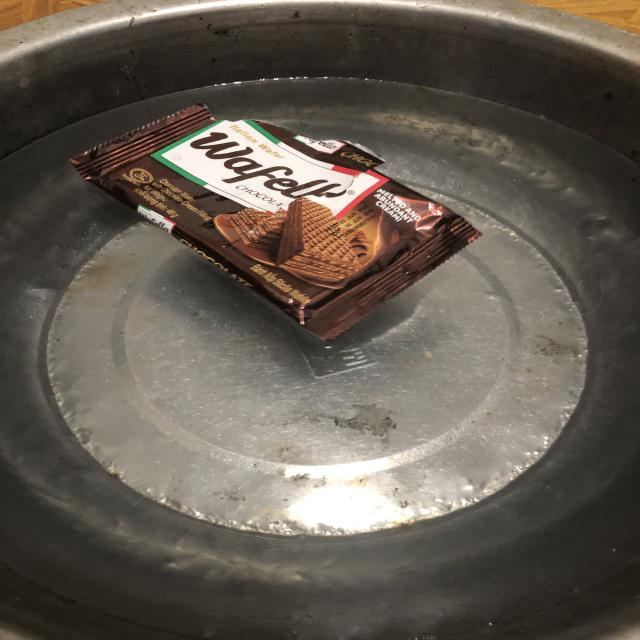Plastic Wrapper: (70, 103, 482, 342)
